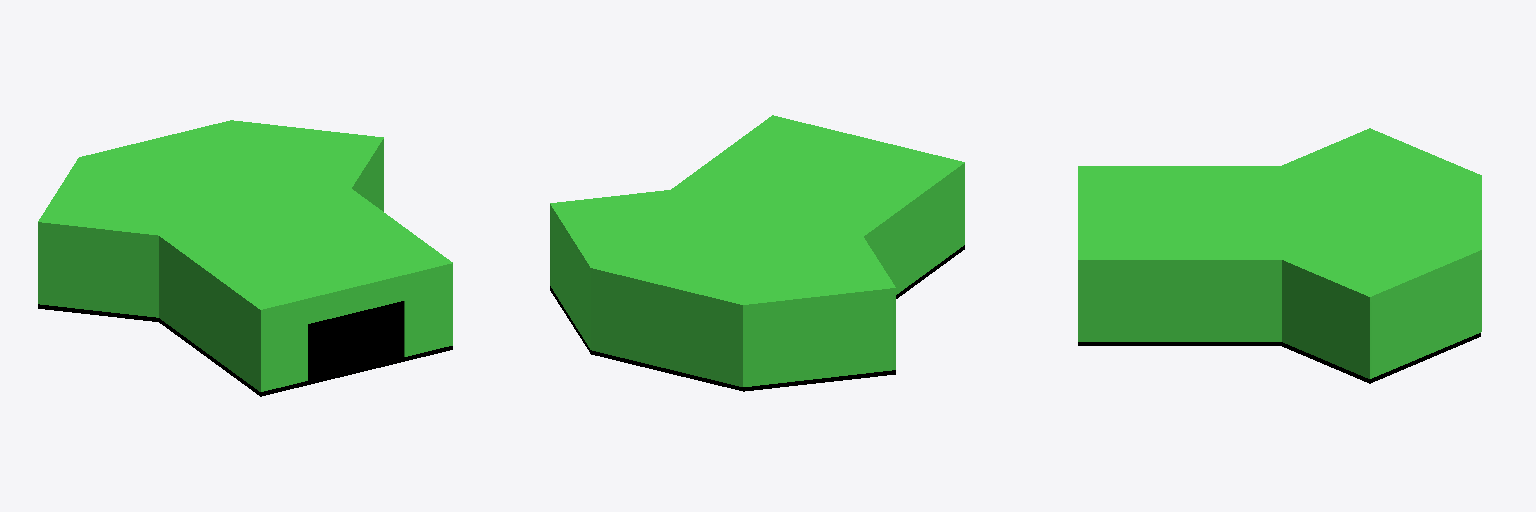
Rendered from VPS.obj.
The picture shows the model from 3 angles: view 1: azimuth 30°, elevation 25°; view 2: azimuth 150°, elevation 25°; view 3: azimuth 270°, elevation 25°; orthographic projection.
Parts seen in each view (by area): view 1: Wall_008, Wall_3, Wall_5, Glass_Door, Wall_010, Floor, Wall_4; view 2: Wall_008, Wall_3, Wall_2, Wall_4, Floor, Wall_007, Wall_009; view 3: Wall_008, Wall_4, Wall_009, Floor.
Boxes of the visible parts, <box> form: Wall_008: <box>38,120,449,314</box>; Wall_3: <box>38,160,262,391</box>; Wall_5: <box>259,263,451,391</box>; Glass_Door: <box>308,301,403,379</box>; Wall_010: <box>259,262,452,390</box>; Floor: <box>38,304,452,396</box>; Wall_4: <box>354,141,452,345</box>; Wall_008: <box>550,117,962,309</box>; Wall_3: <box>743,163,964,386</box>; Wall_2: <box>591,268,742,386</box>; Wall_4: <box>550,119,768,349</box>; Floor: <box>550,245,964,391</box>; Wall_007: <box>591,269,742,383</box>; Wall_009: <box>551,117,773,336</box>; Wall_008: <box>1082,128,1481,301</box>; Wall_4: <box>1078,258,1481,378</box>; Wall_009: <box>1082,255,1481,378</box>; Floor: <box>1078,333,1480,383</box>.
Size of the model in its own units: 25181 by 6020 by 25429.